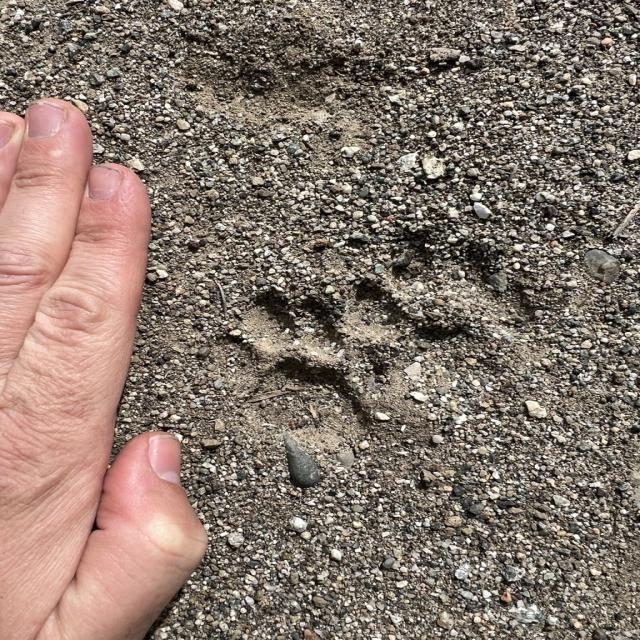felid: (358, 229, 540, 375), (208, 294, 387, 435)
